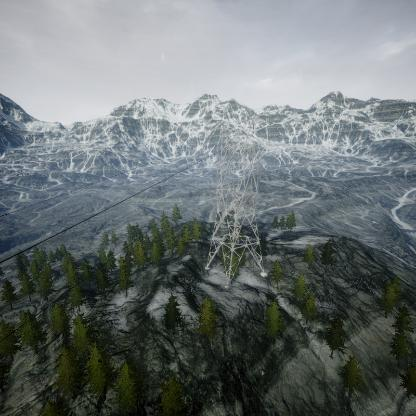tower: (204, 113, 268, 294)
